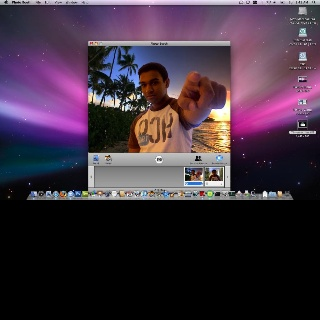without_mask: (139, 70, 165, 103), (212, 171, 216, 176), (191, 170, 194, 175)
